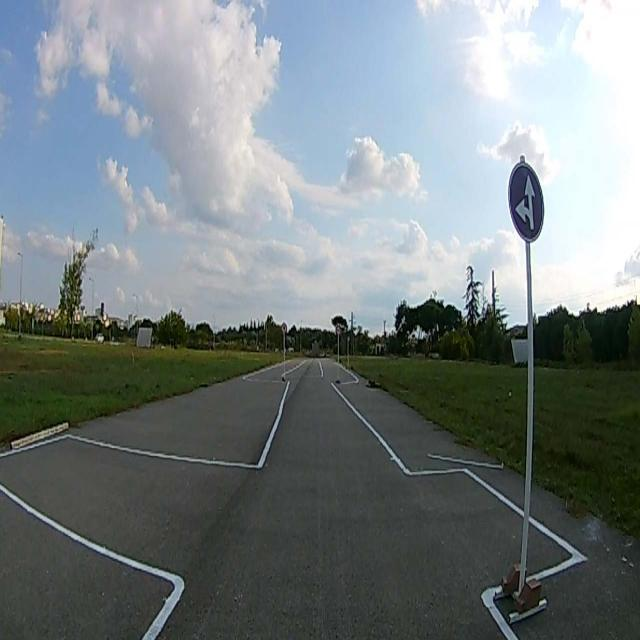ilerisol: (510, 161, 544, 238)
